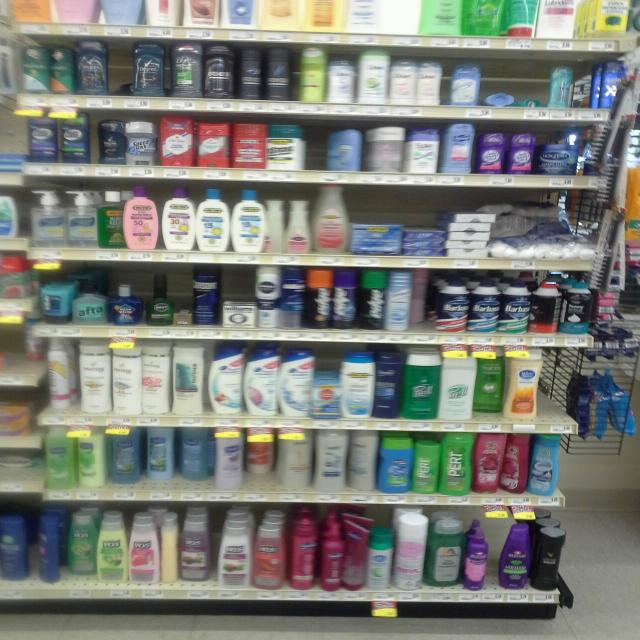unorganised: (110, 432, 213, 491), (44, 339, 78, 419), (501, 429, 531, 500), (66, 512, 97, 580), (33, 515, 63, 585), (289, 519, 319, 588), (348, 427, 379, 492), (530, 276, 561, 337), (320, 129, 362, 173), (343, 515, 367, 591), (486, 83, 542, 113), (478, 353, 503, 420), (74, 433, 106, 485), (216, 432, 243, 493), (159, 513, 181, 585), (543, 65, 575, 111), (247, 439, 273, 485), (264, 197, 283, 255), (410, 270, 428, 328)
